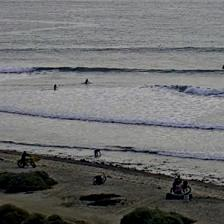surfer: (85, 78, 90, 84), (54, 84, 58, 90), (221, 65, 223, 71)
